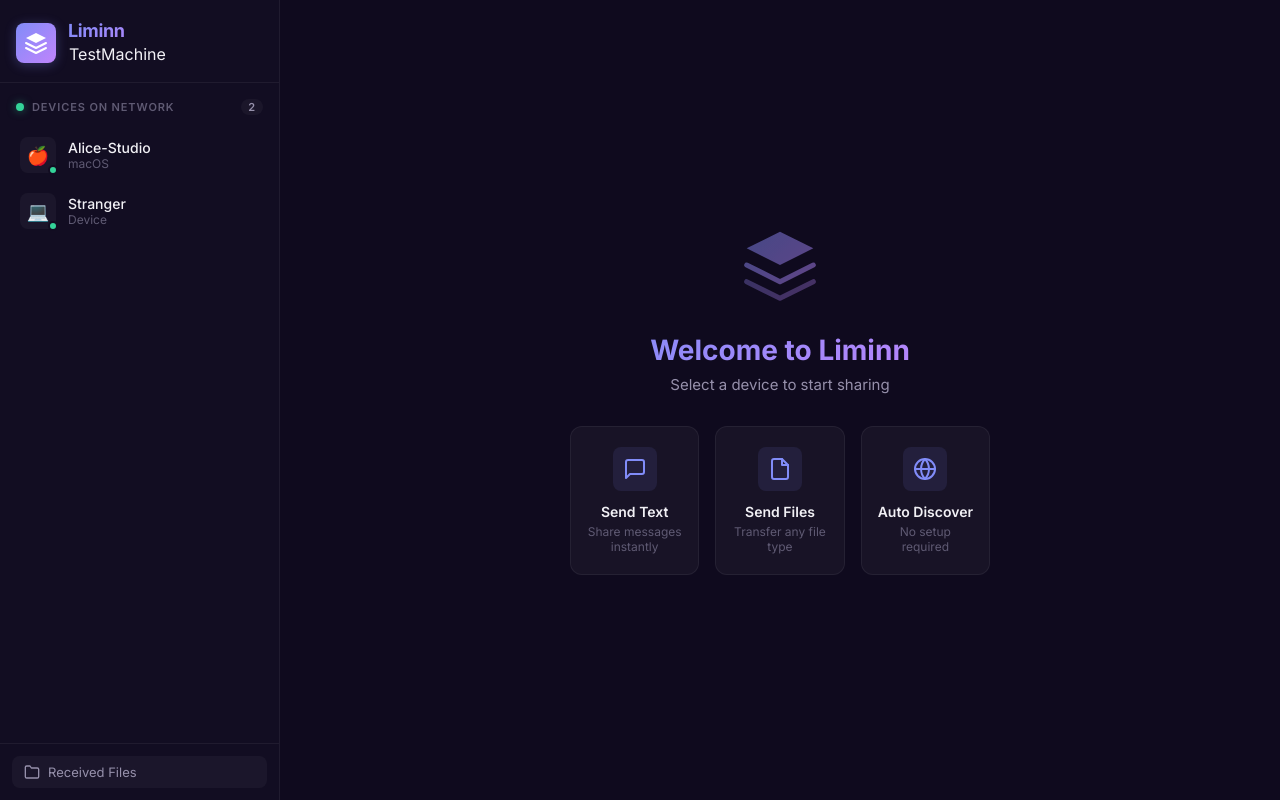
Test: App peer-keyed message routing › synthesizes a peer (keyed by fromId) when a message arrives from a machine mDNS has not discovered
Expected: the button "TestMachine" is shown, [64, 42, 171, 66]
Step 1. Click the text "Stranger" → (97, 204), box [68, 195, 126, 212]
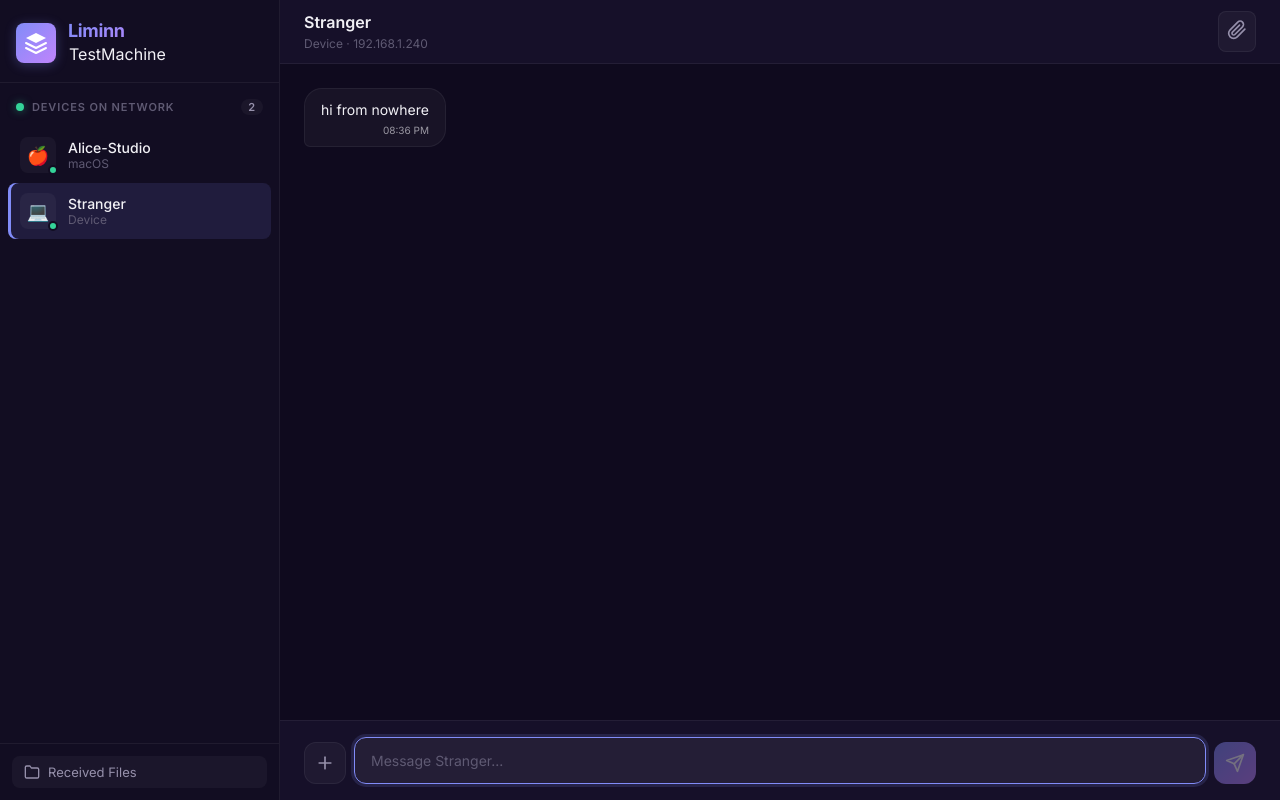
Now the text "hi from nowhere" is shown, box [321, 99, 429, 120]
Step 2. Click the text "Alice-Studio" → (109, 148), box [68, 139, 151, 156]
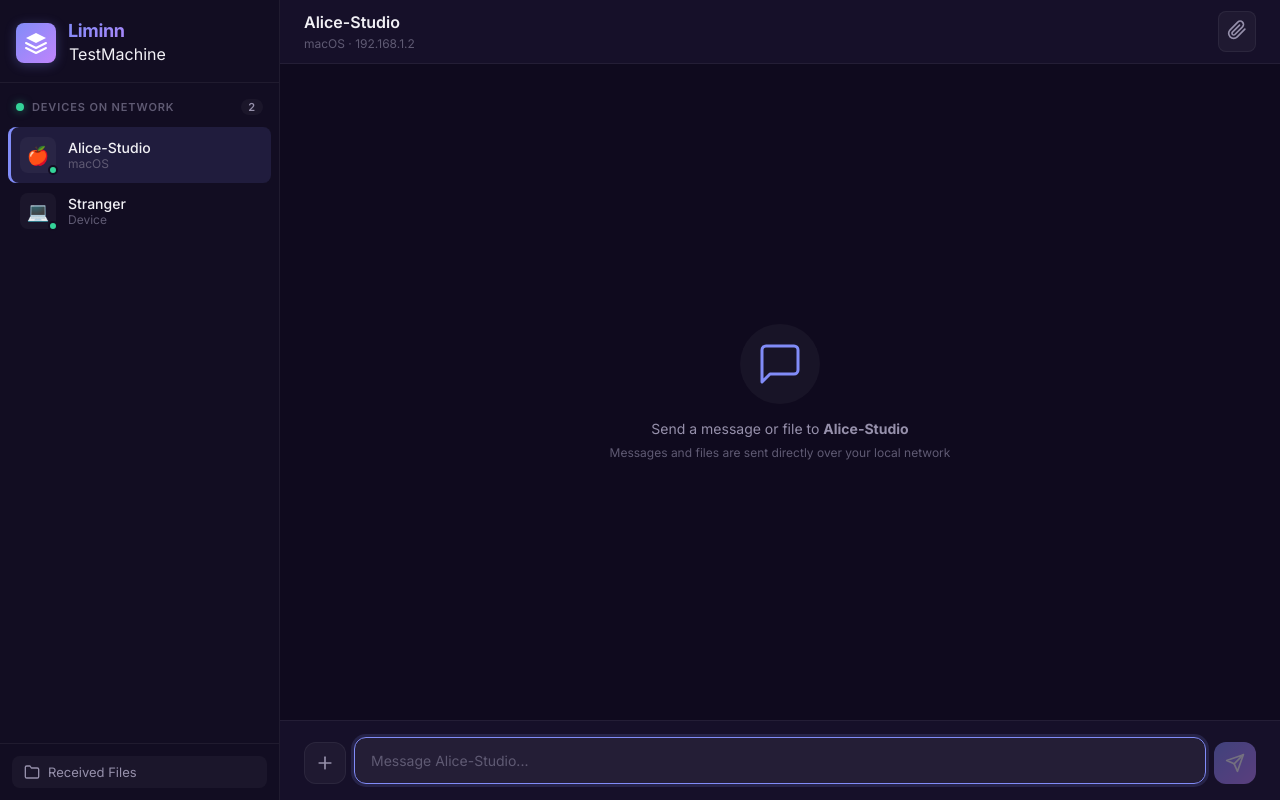
Now the text "hi from nowhere" is gone
